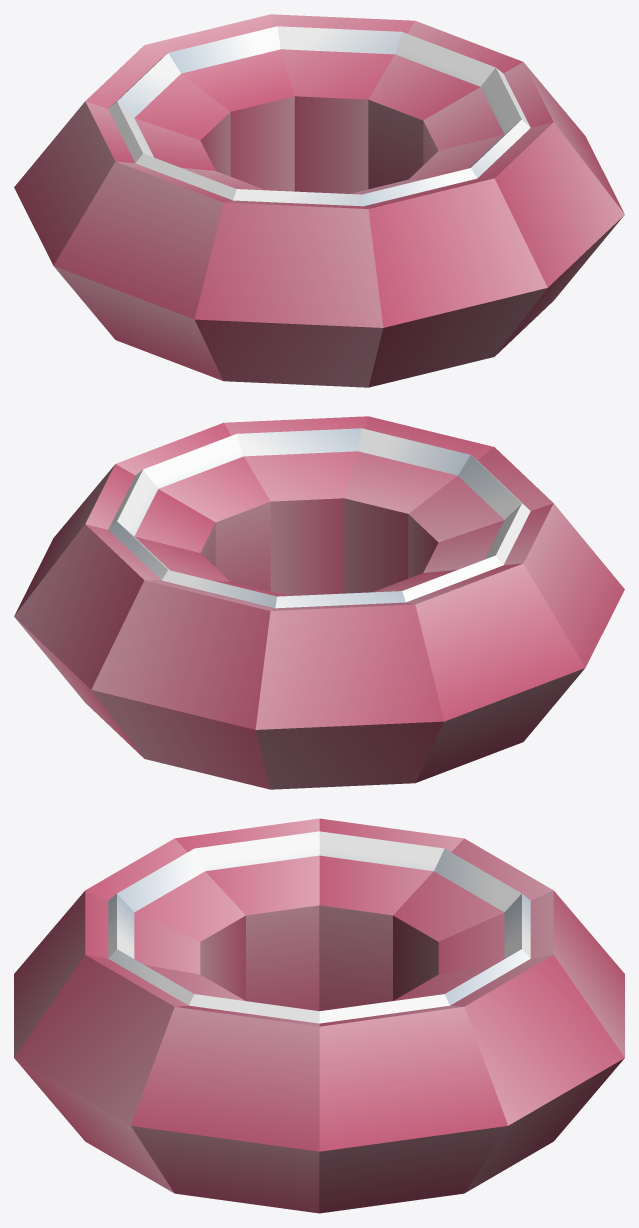
The model's file is dt_donut.fbx.
The picture shows the model from 3 angles, top to bottom: view 1: azimuth 30°, elevation 25°; view 2: azimuth 150°, elevation 25°; view 3: azimuth 270°, elevation 25°; orthographic projection. The views are drawn at different scales.
Parts seen in each view (by area): view 1: dt_donut; view 2: dt_donut; view 3: dt_donut.
Boxes of the visible parts, <box> form: dt_donut: <box>14,14,624,387</box>; dt_donut: <box>14,416,624,789</box>; dt_donut: <box>14,818,624,1213</box>.
Size of the model in its own units: 80 by 25.85 by 76.08.
